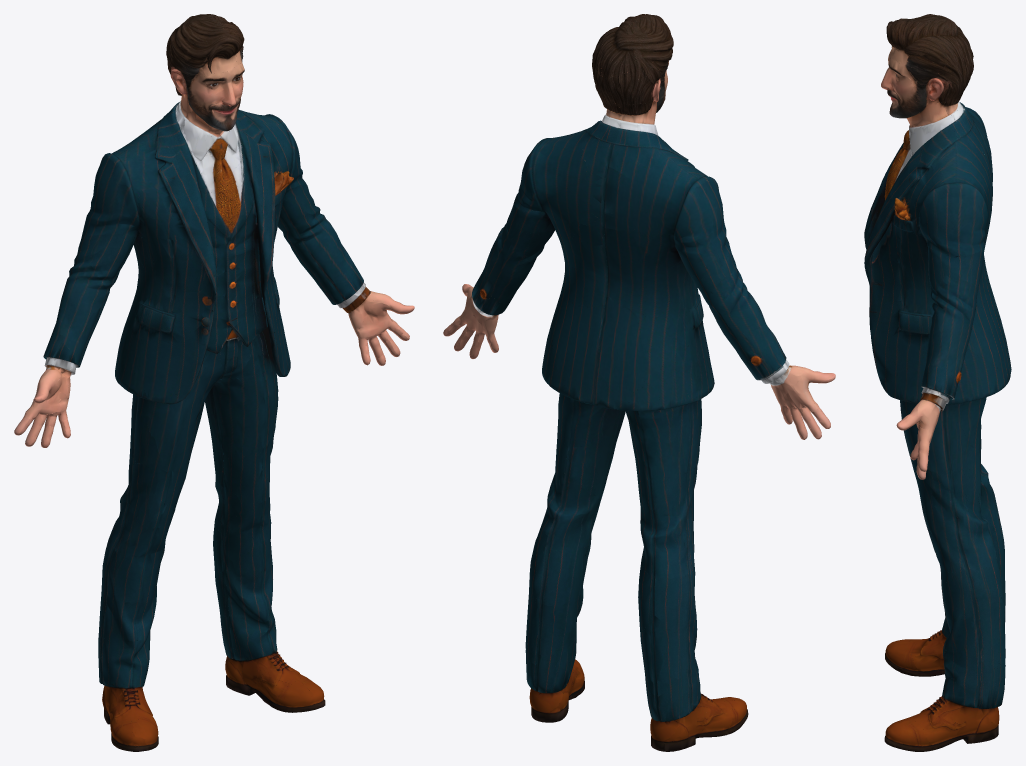
File: gerente-traje.glb
3 renders of one model, left to right at view 1: azimuth 30°, elevation 25°; view 2: azimuth 150°, elevation 25°; view 3: azimuth 270°, elevation 25°, orthographic. The views are drawn at different scales.
Parts seen in each view (by area): view 1: businessman; view 2: businessman; view 3: businessman.
Part boxes in pixels (<box>): businessman: <box>14,14,414,751</box>; businessman: <box>443,14,835,751</box>; businessman: <box>864,14,1011,751</box>.
Bounding box in the file's own units: 1.06 × 1.8 × 0.3493.
1 material, 1 textured.
